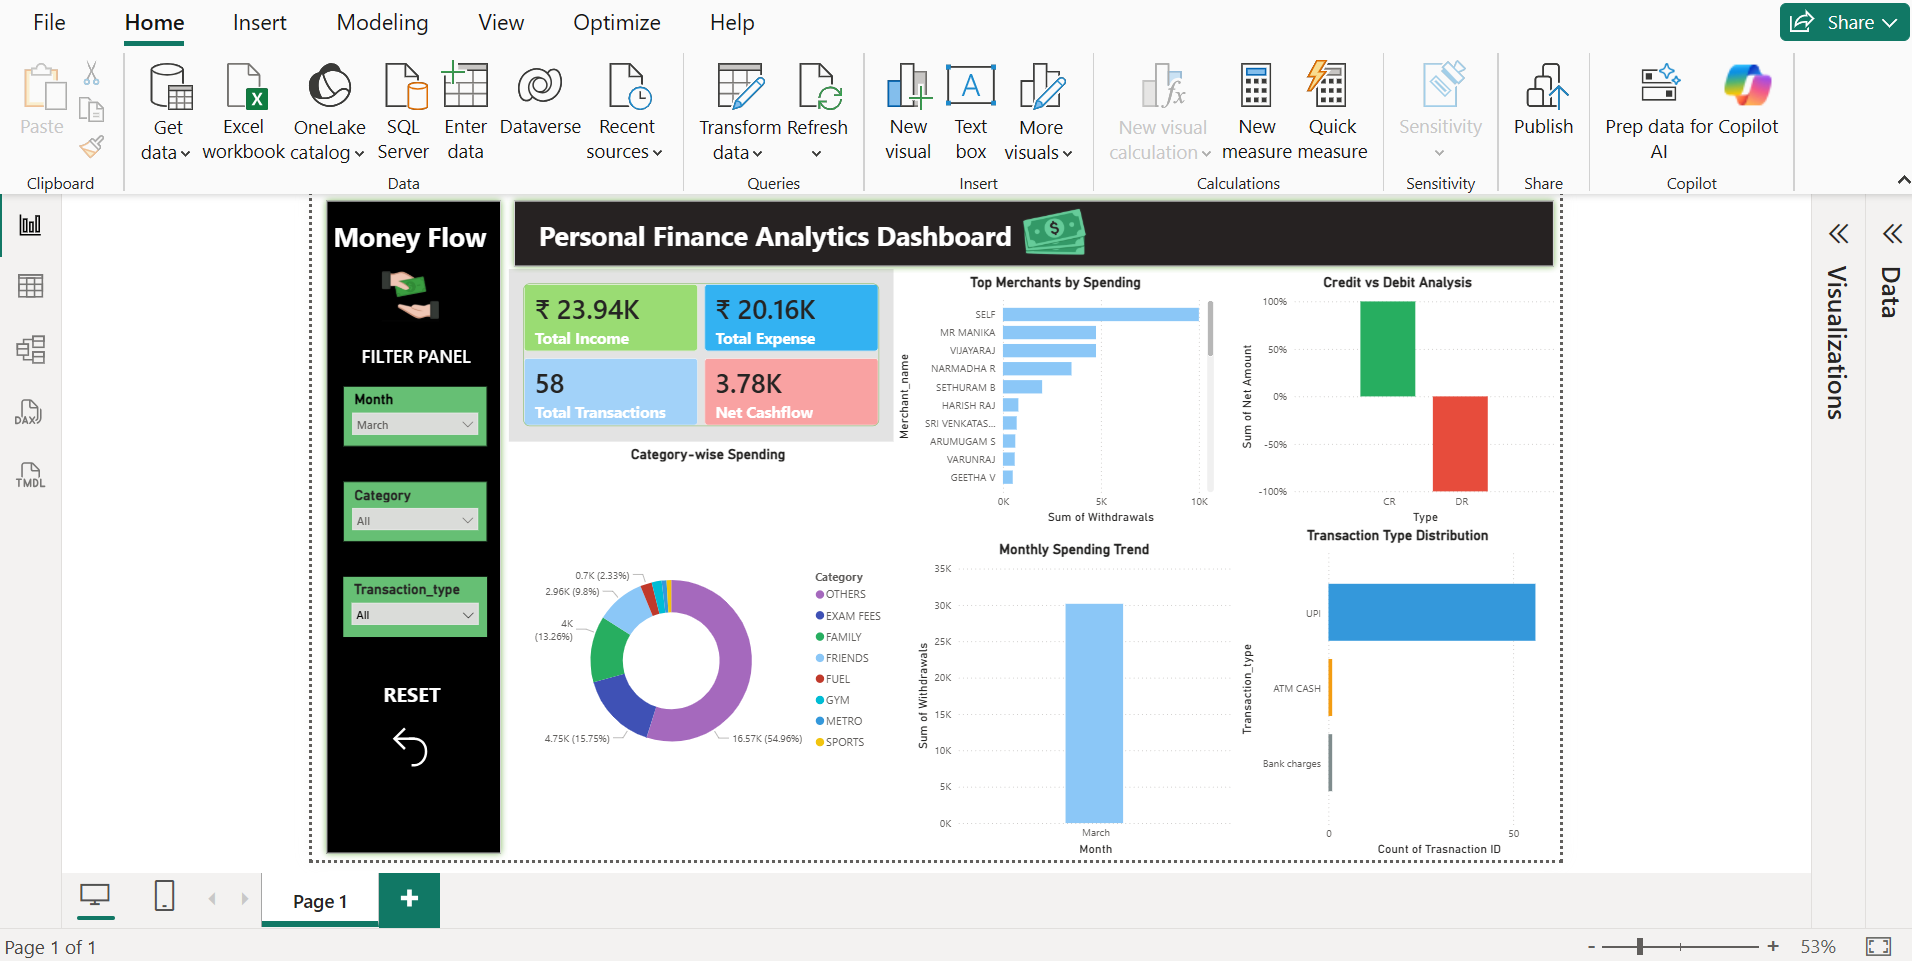

The page's visual inventory and layout, read from the dashboard file:
{"tool":"powerbi","page":{"name":"Page 1","canvas":[1500,800],"ordinal":0},"visuals":[{"type":"shape","box":[9.3,0,225.6,800.2],"z":0},{"type":"textbox","box":[272.5,0,615,62.5],"z":1000},{"type":"shape","box":[235,0,1265,95],"z":2000},{"type":"textbox","box":[252.5,22.5,615,72.5],"z":3000},{"type":"donutChart","title":"Category-wise Spending","fields":{"Y":["Sum(Main_Table.Withdrawals)"],"Category":["Main_Table.Category"]},"box":[252.5,302.5,445,497.5],"z":5000},{"type":"barChart","title":"Transaction Type Distribution","fields":{"Category":["Main_Table.Transaction_type"],"Y":["CountNonNull(Main_Table.Trasnaction ID)"]},"box":[1110,400,390,400],"z":6000},{"type":"clusteredBarChart","title":"Top Merchants by Spending","fields":{"Category":["Main_Table.Merchant_name"],"Y":["Sum(Main_Table.Withdrawals)"]},"box":[697.5,95,390,305],"z":7000},{"type":"hundredPercentStackedColumnChart","title":"Credit vs Debit Analysis","fields":{"Category":["Main_Table.Type"],"Y":["Sum(Main_Table.Net Amount)"]},"box":[1110,95,390,305],"z":8000},{"type":"lineStackedColumnComboChart","title":"Monthly Spending Trend","fields":{"Category":["Main_Table.Month"],"Y":["Sum(Main_Table.Withdrawals)"]},"box":[720,417.5,390,382.5],"z":9000},{"type":"slicer","fields":{"Values":["Main_Table.Month"]},"box":[37.5,230,172.5,72.5],"z":10000},{"type":"slicer","fields":{"Values":["Main_Table.Category"]},"box":[37.5,345,172.5,72.5],"z":11000},{"type":"slicer","fields":{"Values":["Main_Table.Transaction_type"]},"box":[37.5,460,172.5,72.5],"z":12000},{"type":"actionButton","box":[87.5,635,67.5,60],"z":13000},{"type":"image","box":[847.3,0,90.6,90.6],"z":14000},{"type":"textbox","box":[0,25,235,72.5],"z":15000},{"type":"textbox","box":[80,580,87.5,57.5],"z":16000},{"type":"image","box":[50,90,135,62.5],"z":17000},{"type":"textbox","box":[30,175,190,55],"z":18000},{"type":"cardVisual","fields":{"Data":["Main_Table.Total Income","Main_Table.Total Expense","Main_Table.Total Transactions","Main_Table.Net Cashflow"]},"box":[235.9,90.6,462.3,207.6],"z":19000}]}

Visuals, with their boxes on the page's 1500x800 design canvas (x1, y1, x2, y2). These are canvas units, not pixel positions in the 1912x961 screenshot, which may show the page scaled, cropped or inside an application window:
shape: [9,0,235,800]
textbox: [272,0,888,62]
shape: [235,0,1500,95]
textbox: [252,22,868,95]
"Category-wise Spending" donutChart: [252,302,698,800]
"Transaction Type Distribution" barChart: [1110,400,1500,800]
"Top Merchants by Spending" clusteredBarChart: [698,95,1088,400]
"Credit vs Debit Analysis" hundredPercentStackedColumnChart: [1110,95,1500,400]
"Monthly Spending Trend" lineStackedColumnComboChart: [720,418,1110,800]
slicer - Main_Table.Month: [38,230,210,302]
slicer - Main_Table.Category: [38,345,210,418]
slicer - Main_Table.Transaction_type: [38,460,210,532]
actionButton: [88,635,155,695]
image: [847,0,938,91]
textbox: [0,25,235,98]
textbox: [80,580,168,638]
image: [50,90,185,152]
textbox: [30,175,220,230]
cardVisual - Main_Table.Total Income x Main_Table.Total Expense: [236,91,698,298]
